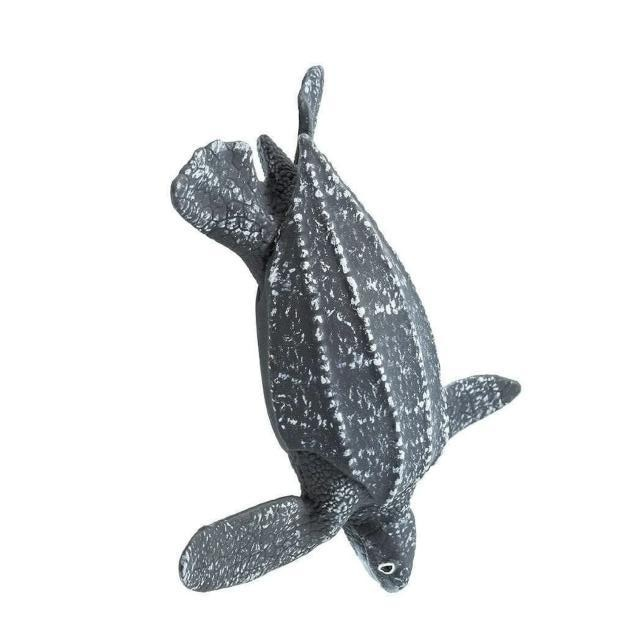turtle: (168, 66, 524, 594)
